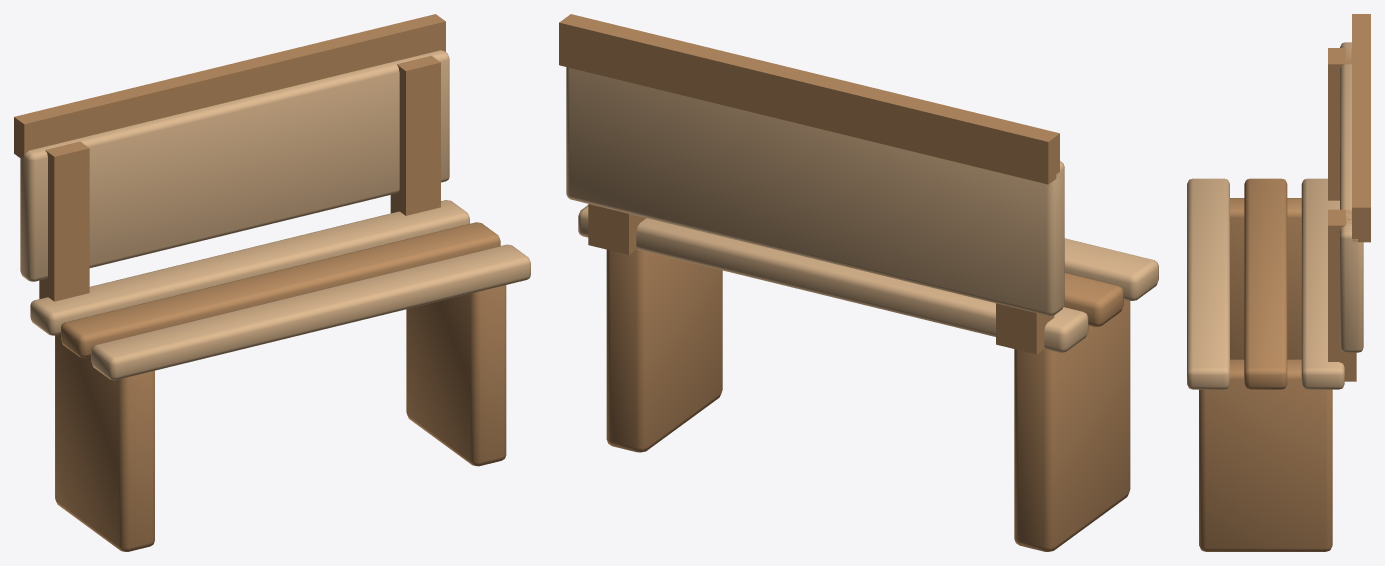
The model's file is bench.glb.
3 views of the same model, side by side, from view 1: azimuth 30°, elevation 25°; view 2: azimuth 150°, elevation 25°; view 3: azimuth 270°, elevation 25° (orthographic). The views are drawn at different scales.
Visible parts, largest first — view 1: bench; view 2: bench; view 3: bench.
Boxes of the visible parts, bbox=[...] form: bench: bbox=[14, 14, 530, 551]; bench: bbox=[559, 14, 1158, 551]; bench: bbox=[1187, 14, 1370, 551].
Size of the model in its own units: 0.96 by 0.82 by 0.385.
